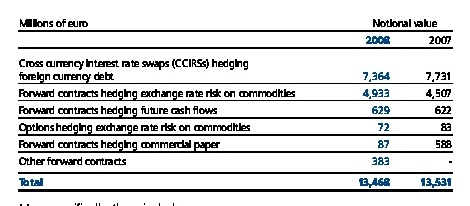table: (0, 0, 470, 206)
